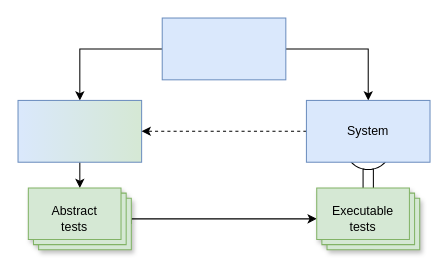
The diagram is 448 pixels wide and 275 high, and some of its shapes have lost their labels. The shapes that lost their labels are listed below. From the top down, each one's centre as x and y in pixels, then its label:
At [223,48]: "Requirements".
At [79,130]: "Model".
